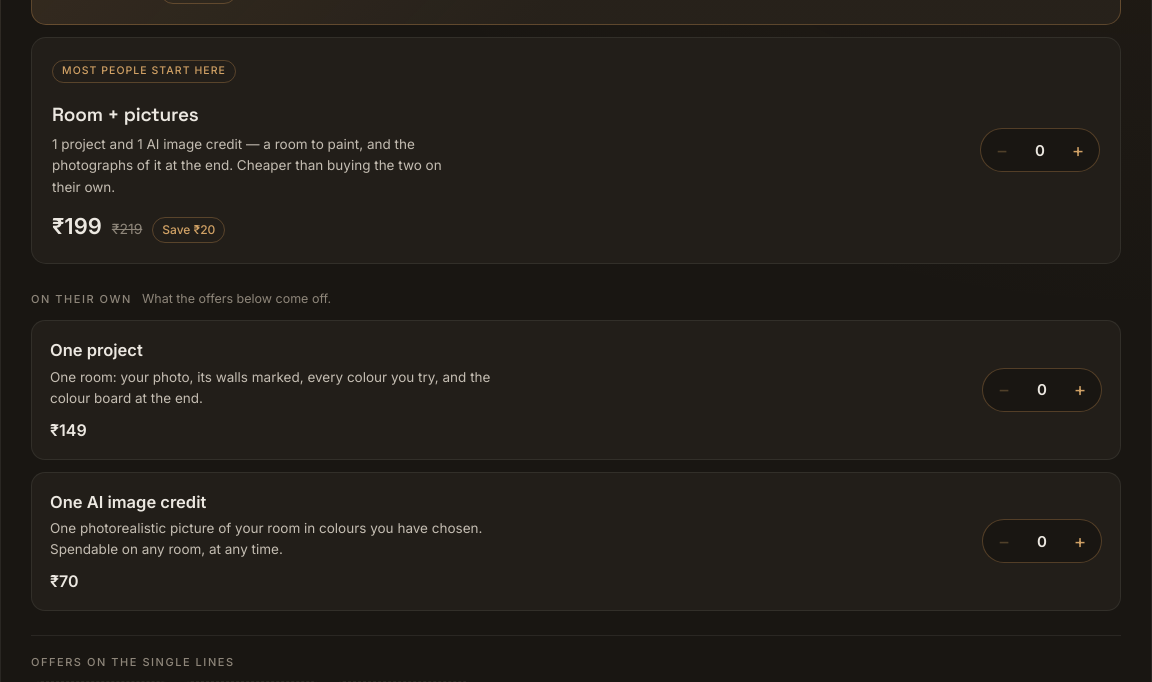
Scenario: CreditsCart › applies the earned offer without being asked, and keeps the rest out of reach
(page scrolled)
Note: Two projects: ₹298, past the ₹289 threshold and short of ₹589.
Click the button named "One more One project": [1080, 390] box [1059,369,1101,411]
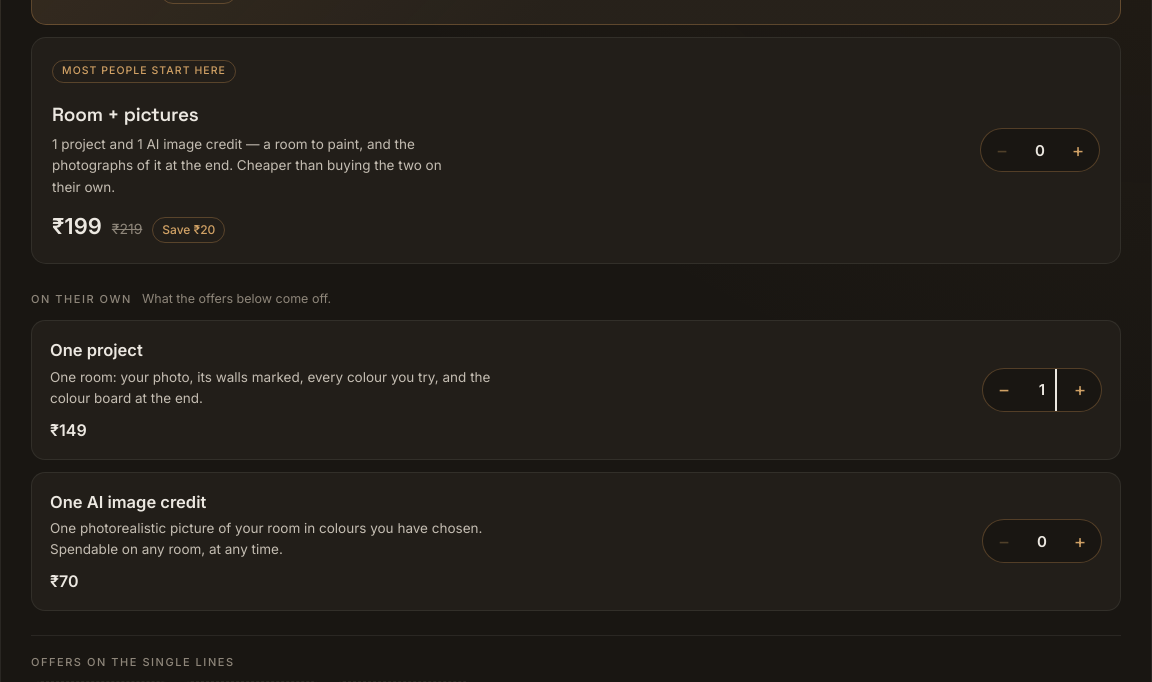
Click the button named "One more One project": [1080, 390] box [1059,369,1101,411]
(page scrolled)
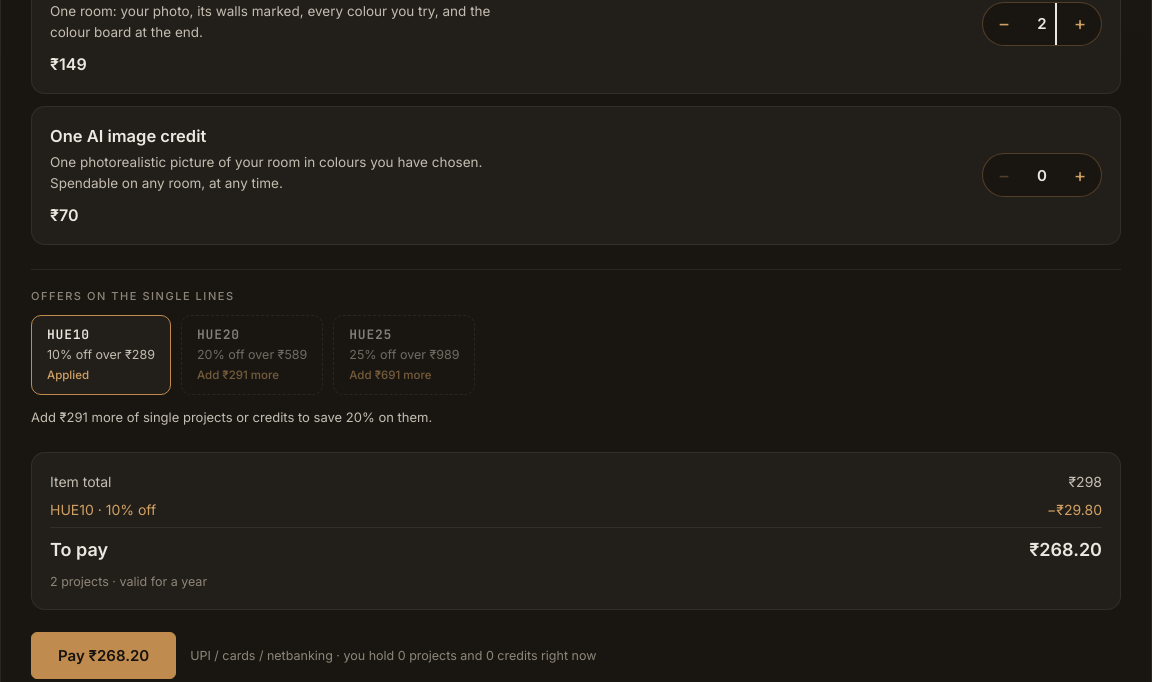
Check: the button "HUE20 20% off over ₹589 Add ₹291 more" is disabled, box [181,315,323,395]
Check: the text "−₹29.80" is shown, box [1047,498,1102,520]
Check: the button "Pay ₹268.20" is shown, box [31,632,176,679]
